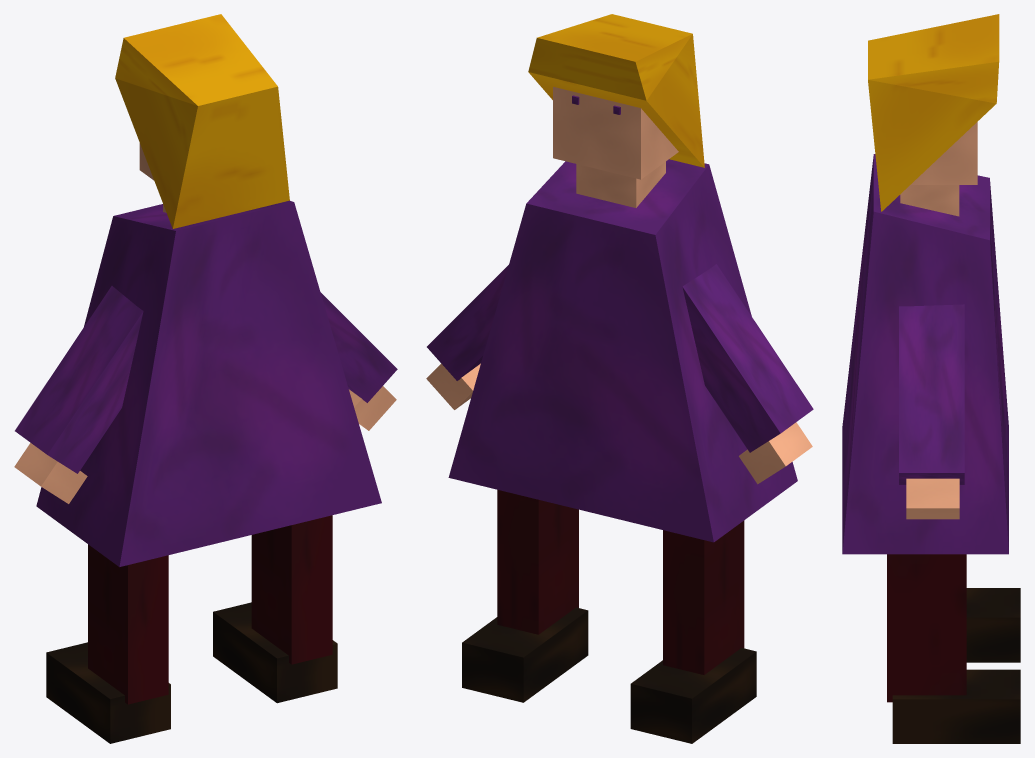
The model's file is PlayerFemale.dae.
3 renders of one model, left to right at view 1: azimuth 30°, elevation 25°; view 2: azimuth 150°, elevation 25°; view 3: azimuth 270°, elevation 25°, orthographic.
Parts seen in each view (by area): view 1: Cube, Cube.010, Cube.007, Cube.002, Cube.001, Cube.005, Cube.004, Cube.006, Cube.012, Cube.011; view 2: Cube, Cube.010, Cube.007, Cube.002, Cube.001, Cube.005, Cube.004, Cube.009, Cube.006, Cube.008, Cube.012, Cube.011; view 3: Cube, Cube.010, Cube.006, Cube.001, Cube.004, Cube.005, Cube.011, Cube.009, Cube.008.
Part boxes in pixels (box(x1,y1,x2,y2)): Cube: box(36, 200, 381, 566); Cube.010: box(115, 14, 289, 228); Cube.007: box(15, 286, 143, 473); Cube.002: box(88, 544, 168, 704); Cube.001: box(251, 515, 332, 664); Cube.005: box(46, 642, 170, 743); Cube.004: box(213, 602, 337, 703); Cube.006: box(320, 292, 397, 402); Cube.012: box(14, 443, 87, 503); Cube.011: box(349, 386, 396, 430); Cube: box(448, 159, 797, 542); Cube.010: box(528, 14, 704, 167); Cube.007: box(682, 264, 813, 452); Cube.002: box(663, 520, 744, 674); Cube.001: box(497, 489, 578, 634); Cube.005: box(630, 648, 756, 743); Cube.004: box(462, 607, 588, 702); Cube.009: box(553, 87, 678, 179); Cube.006: box(427, 265, 508, 380); Cube.008: box(576, 161, 665, 207); Cube.012: box(739, 422, 812, 484); Cube.011: box(426, 363, 480, 409); Cube: box(842, 154, 1008, 554); Cube.010: box(868, 14, 999, 211); Cube.006: box(899, 304, 964, 484); Cube.001: box(887, 554, 966, 702); Cube.004: box(892, 669, 1020, 743); Cube.005: box(966, 588, 1020, 662); Cube.011: box(906, 478, 959, 519); Cube.009: box(910, 122, 977, 184); Cube.008: box(900, 185, 959, 216).
Size of the model in its own units: 1.77 by 0.7644 by 3.09.
1 material, 1 textured.
